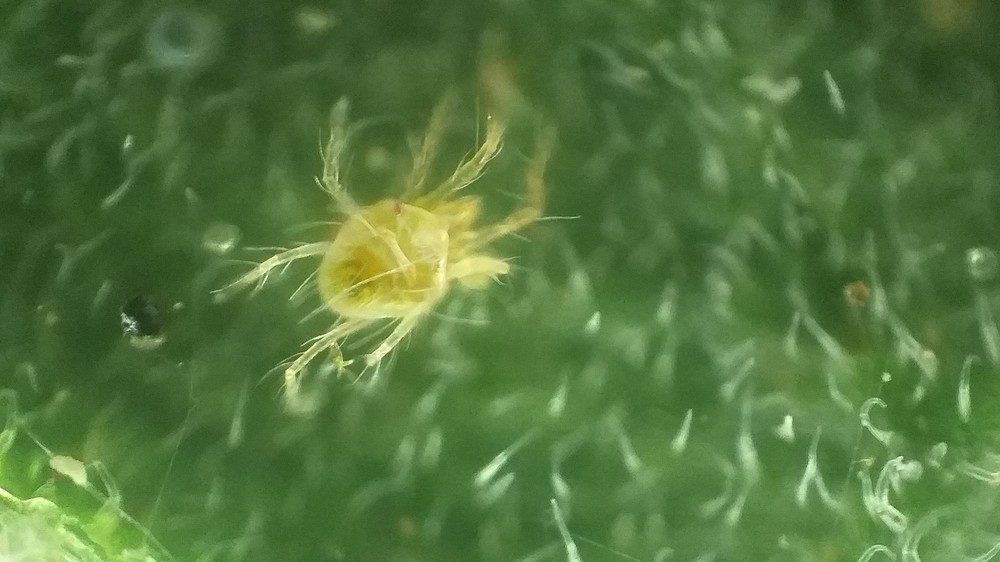Aracnido Rojo: (171, 73, 606, 412)
